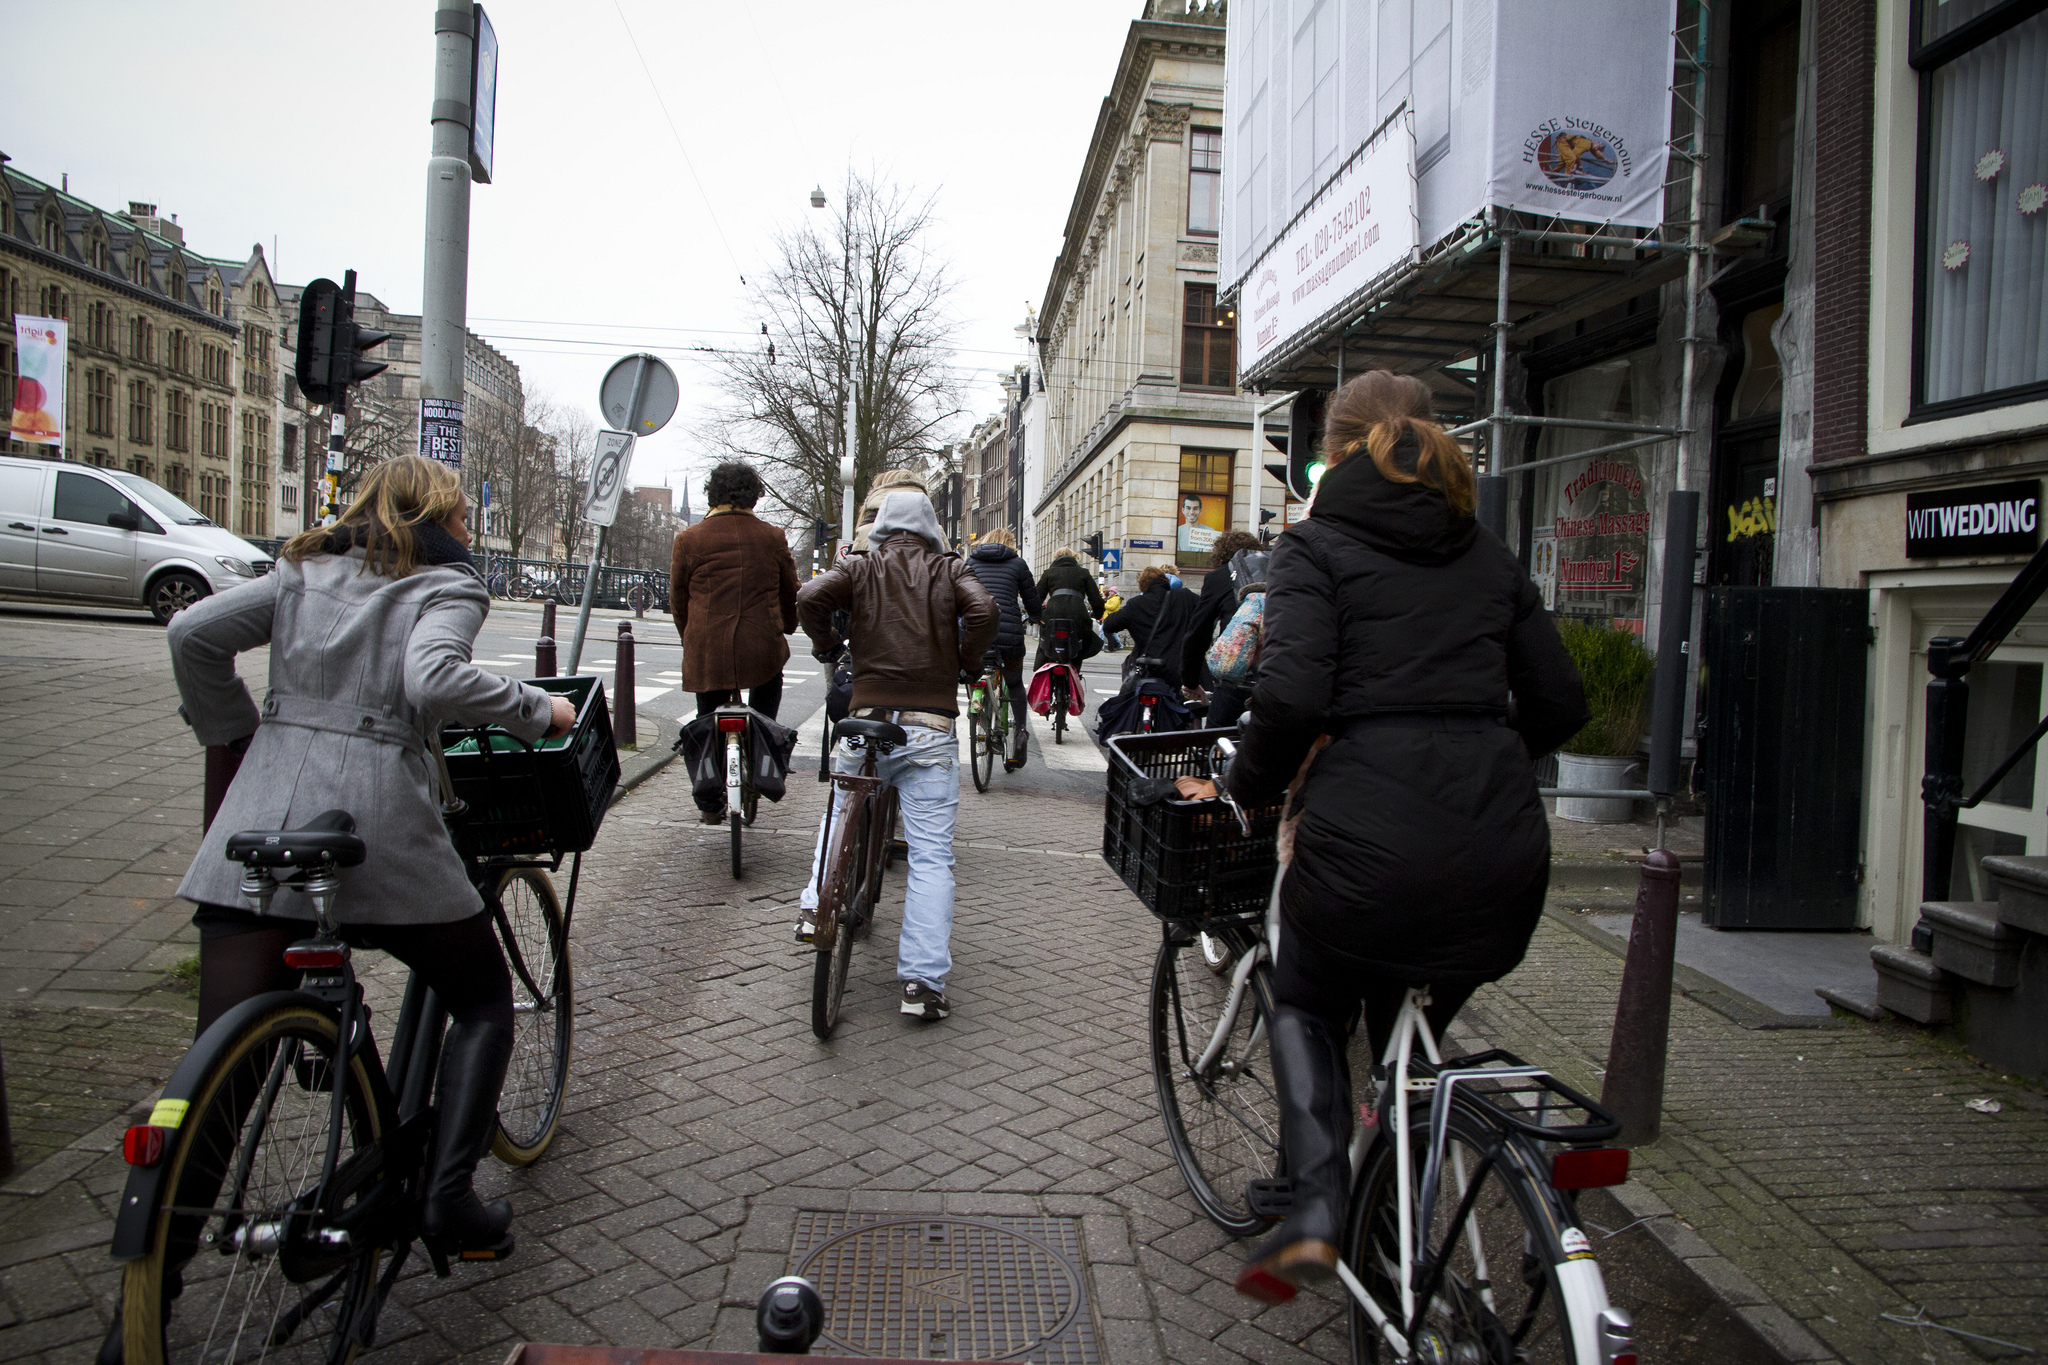commuter: (1105, 366, 1634, 1365), (100, 449, 617, 1363), (795, 475, 970, 1050), (668, 466, 790, 881), (959, 526, 1042, 791), (1029, 548, 1105, 748)
